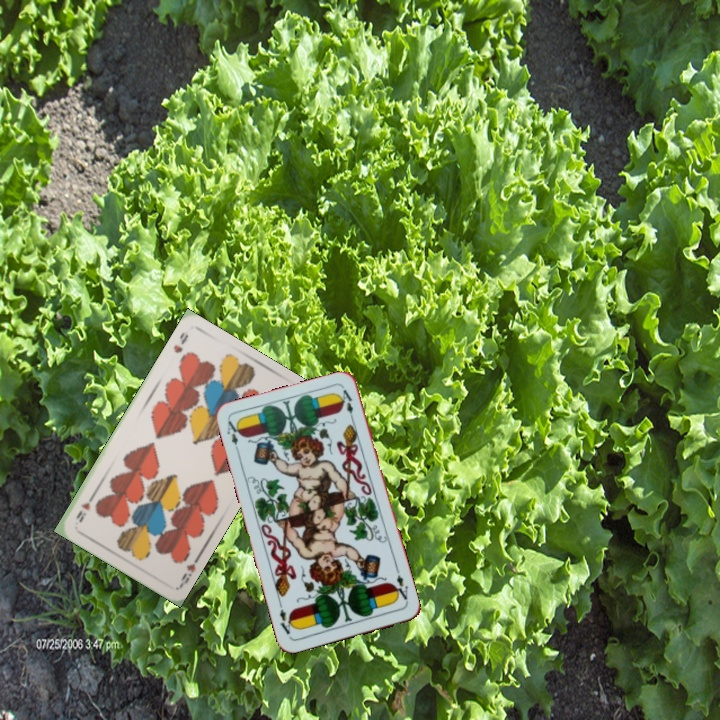EA: (223, 416, 244, 456), (389, 571, 411, 606)
H9: (176, 552, 202, 589), (169, 328, 191, 356)
